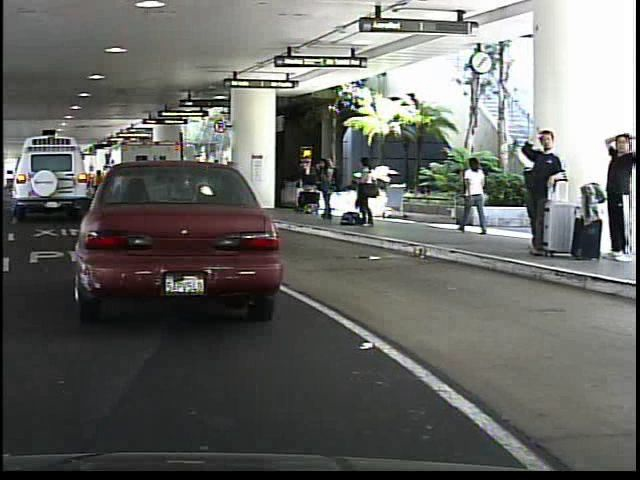person: (516, 123, 564, 258), (597, 125, 634, 266), (453, 154, 491, 235), (349, 155, 376, 229)
